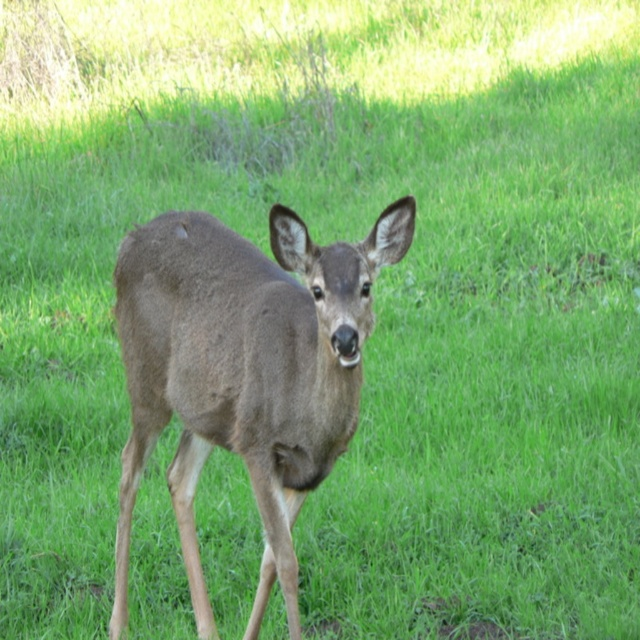Deer: (112, 195, 418, 639)
